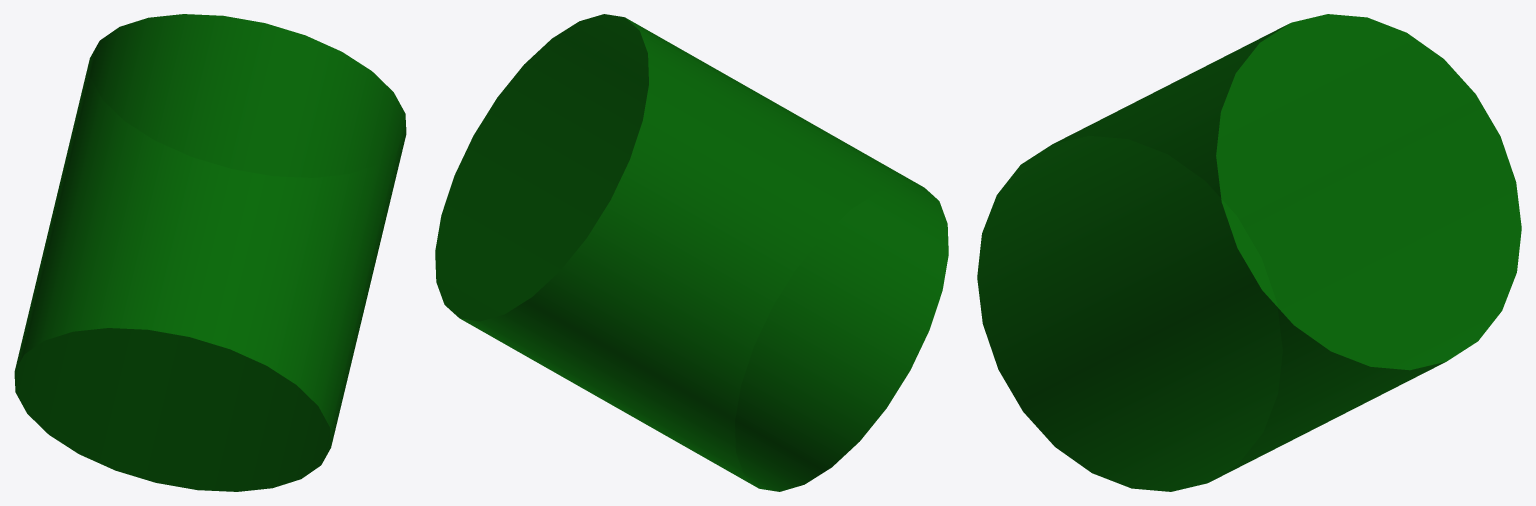
Rendered from Event_191826238_jet_12.fbx.
The picture shows the model from 3 angles, left to right: view 1: azimuth 30°, elevation 25°; view 2: azimuth 150°, elevation 25°; view 3: azimuth 270°, elevation 25°; orthographic projection. The views are drawn at different scales.
Visible parts, largest first — view 1: Model; view 2: Model; view 3: Model.
Boxes of the visible parts, bbox=[...] form: Model: bbox=[14, 14, 406, 491]; Model: bbox=[435, 14, 948, 491]; Model: bbox=[977, 14, 1521, 491].
Bounding box in the file's own units: 0.0583 × 0.0586 × 0.0584.
